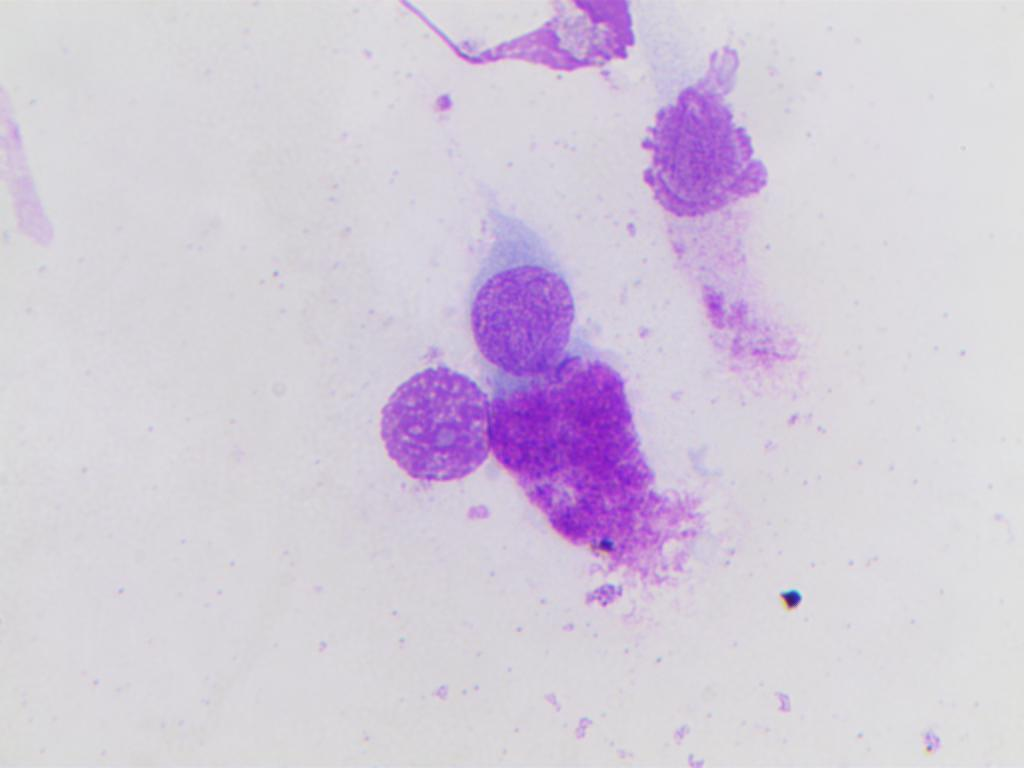artifact: (638, 74, 784, 218), (392, 0, 643, 78), (778, 582, 806, 613)
epithelial: (365, 367, 489, 482)
goblet_cell: (445, 249, 736, 607)
